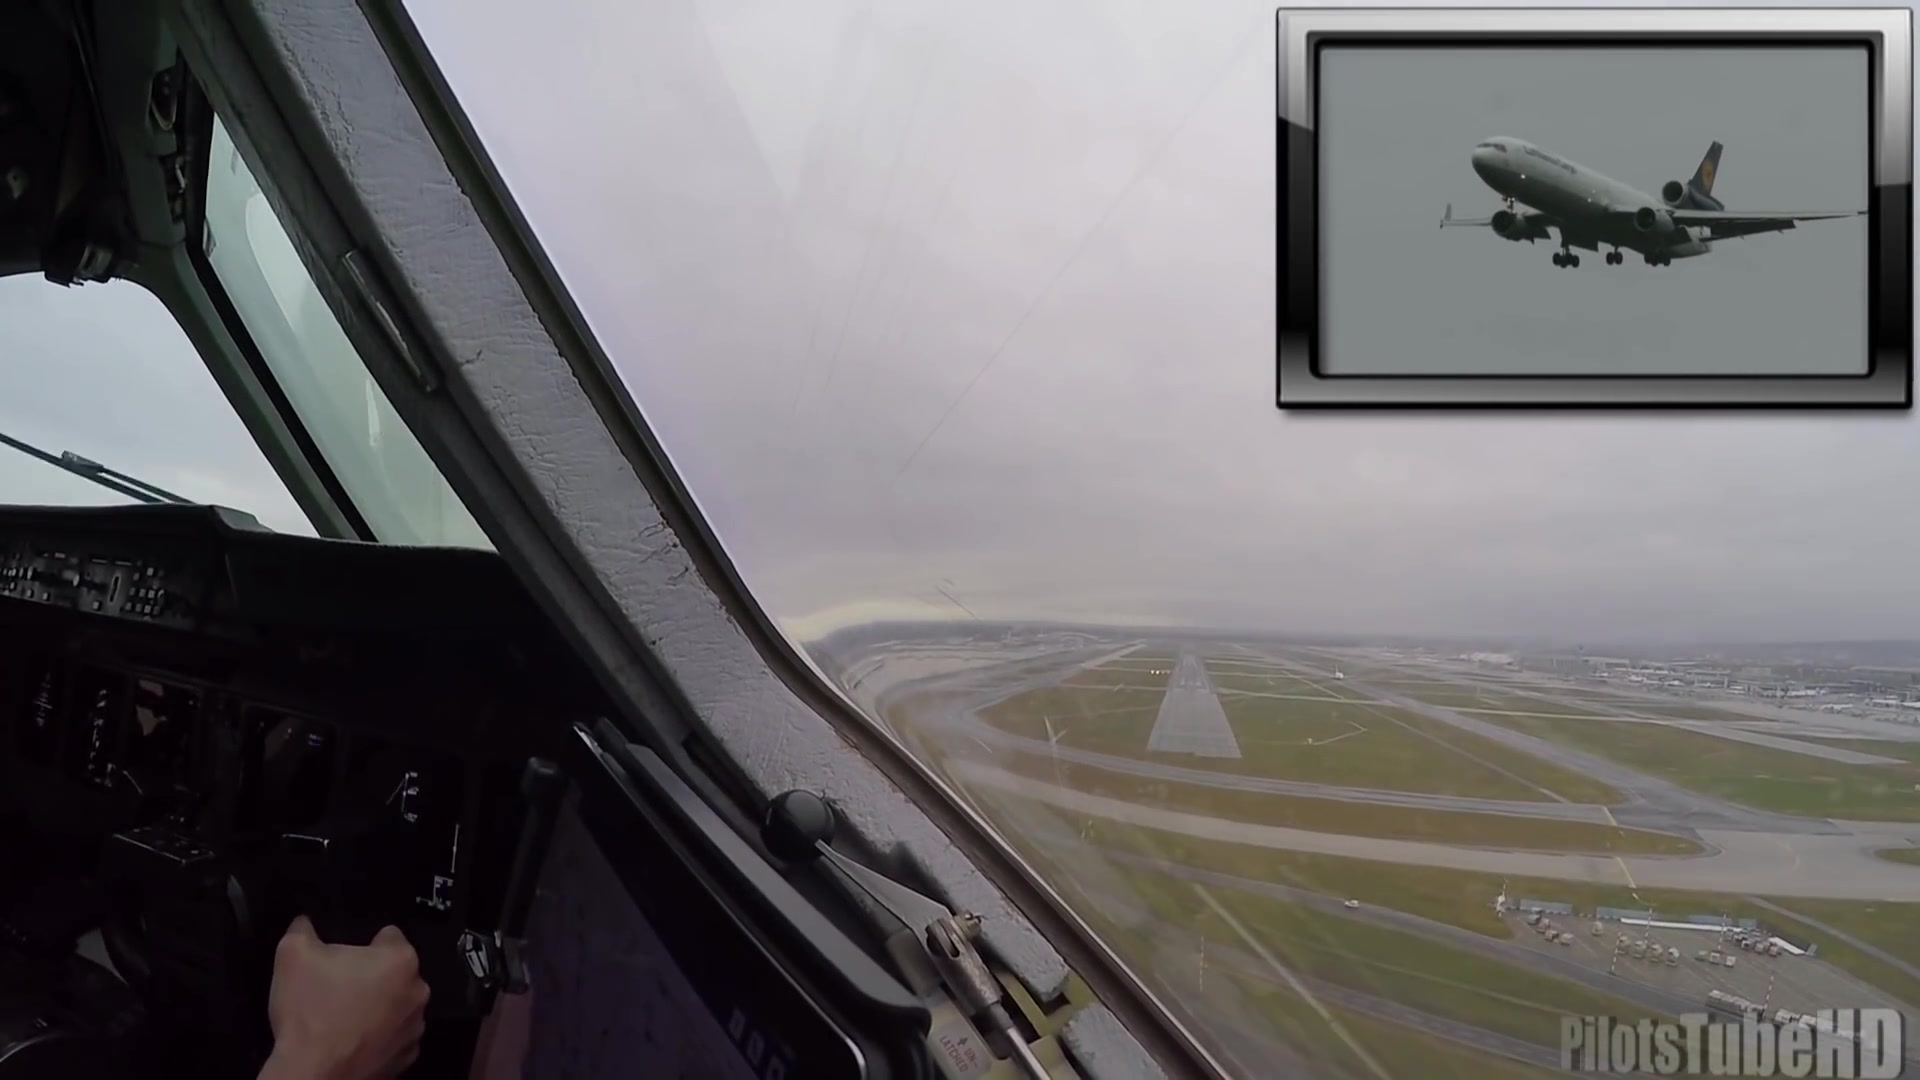runway: (1145, 645, 1241, 760)
